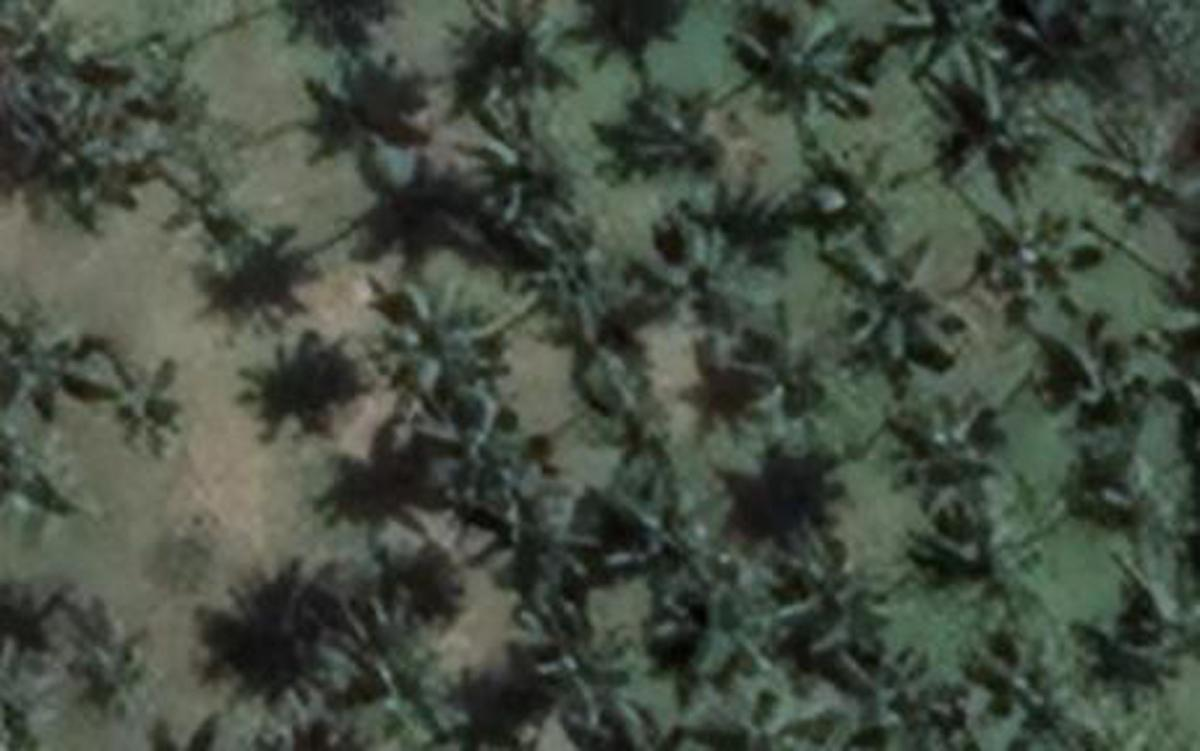coconut: (226, 558, 352, 701), (383, 279, 513, 414), (1074, 552, 1200, 688), (748, 0, 881, 125), (610, 451, 730, 589), (923, 78, 1051, 206), (341, 602, 466, 727), (881, 383, 1009, 505), (667, 550, 787, 680), (837, 237, 960, 359), (446, 0, 568, 122), (60, 597, 174, 724), (926, 490, 1043, 612), (889, 0, 1014, 112), (639, 219, 759, 333), (91, 352, 200, 477), (1051, 315, 1166, 430), (730, 307, 842, 425), (1085, 96, 1192, 219), (787, 140, 905, 250), (172, 148, 284, 263), (529, 586, 636, 704), (1077, 445, 1194, 552), (420, 391, 532, 500), (1004, 0, 1119, 101), (978, 200, 1082, 310), (469, 109, 571, 221), (493, 471, 600, 576), (795, 539, 900, 646), (524, 211, 626, 320), (824, 651, 933, 751), (620, 86, 730, 179), (978, 636, 1074, 730)
